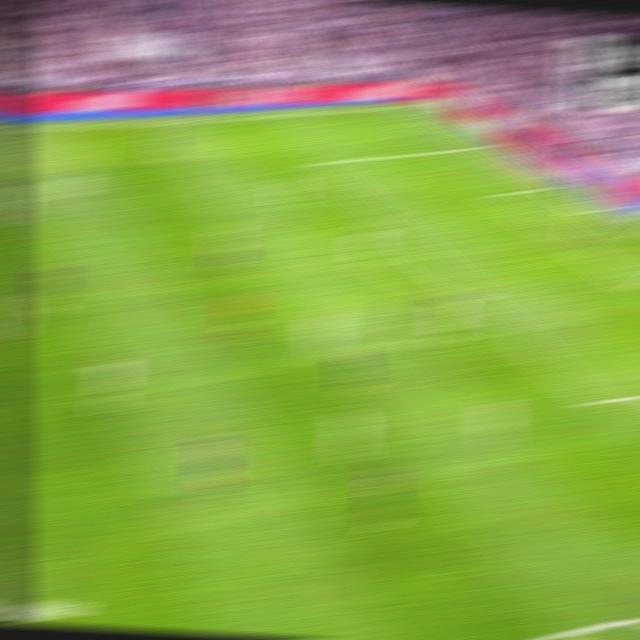bigarea_bottom_inner: (583, 390, 612, 414)
bigarea_top_inner: (306, 156, 331, 170)
bigarea_top_outter: (472, 140, 497, 150)
bottom_arc_area_intersection: (460, 288, 488, 306)
corner: (404, 100, 431, 108)
smallarea_bottom_inner: (628, 280, 640, 297)
smallarea_top_inner: (487, 190, 509, 199)
top_arc_area_intersection: (367, 209, 393, 223)
